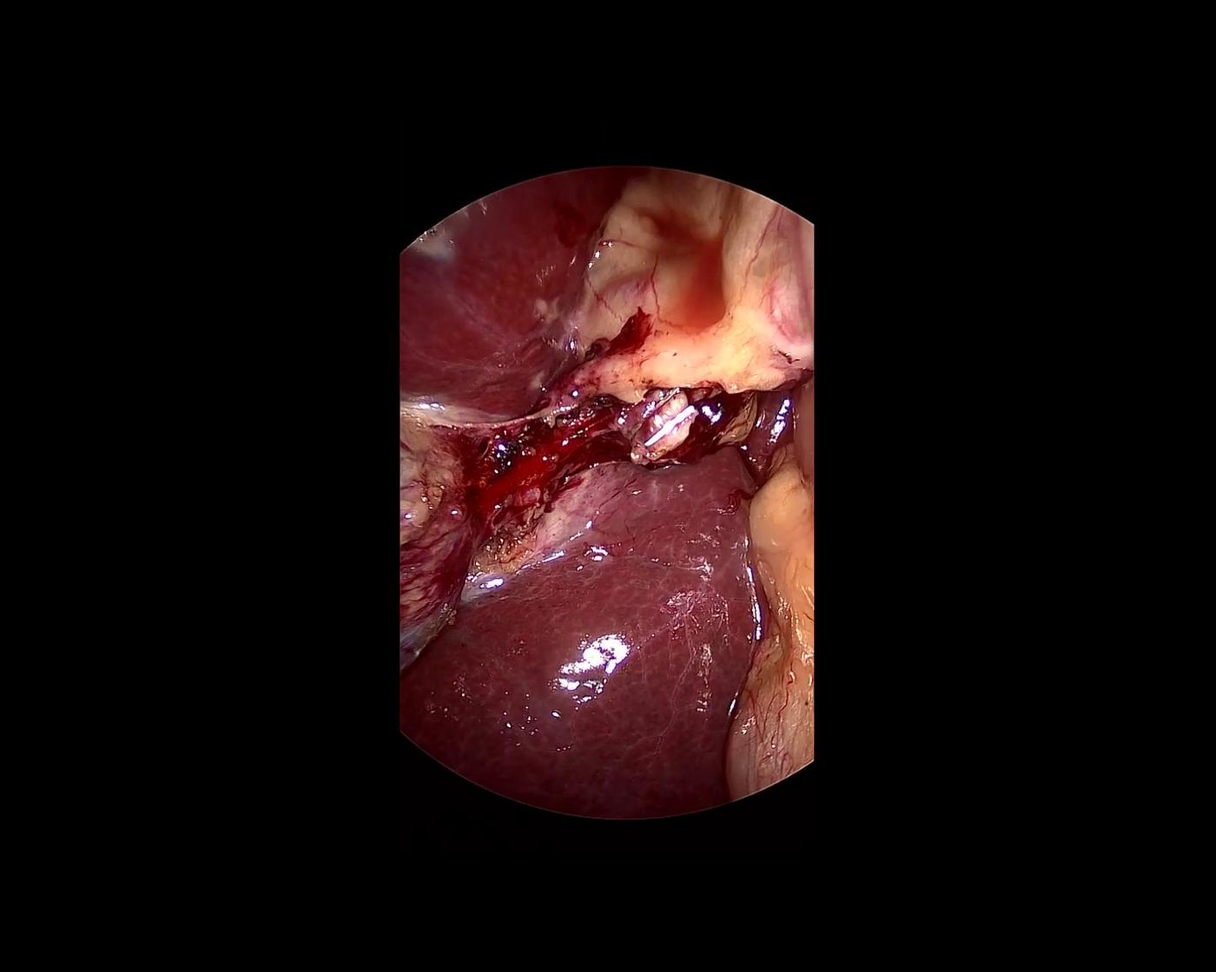Gallbladder: (399, 406, 469, 670)
Liver: (382, 443, 783, 833), (353, 100, 636, 444)
